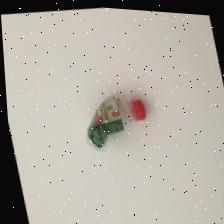plastic: (83, 96, 146, 149)
